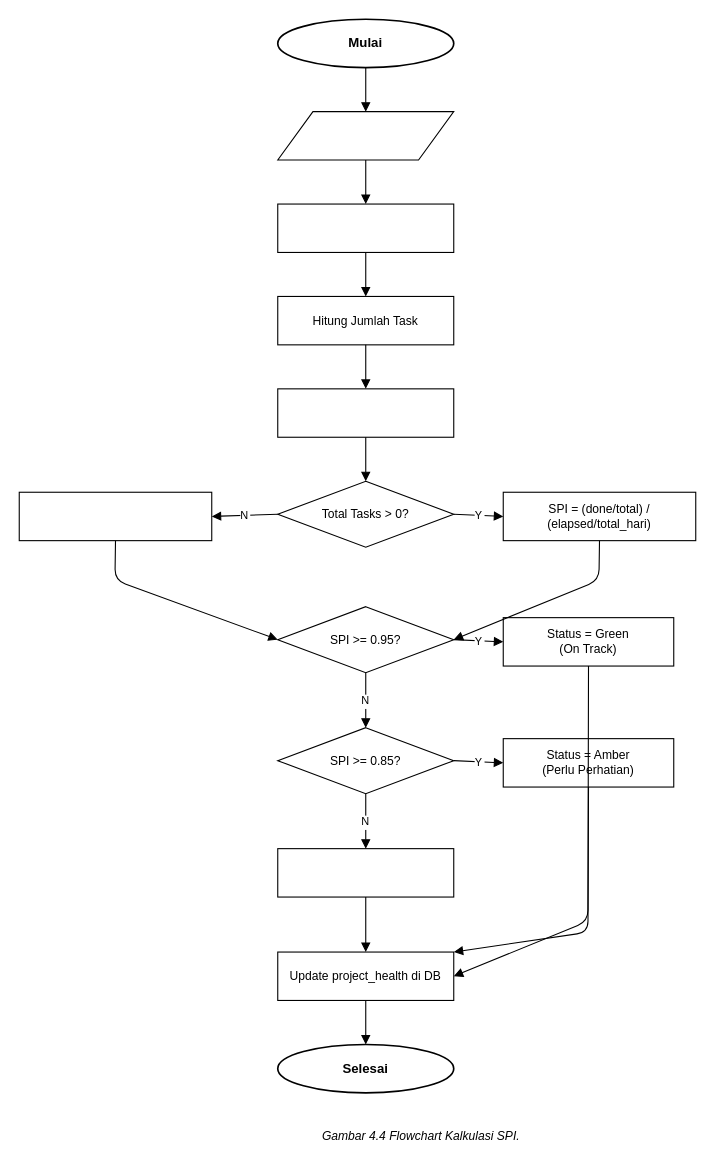
Image size: 715x1172. Some labels were removed from this diagram. Here are the shapes that lost their labels. From the top down, the centre of each, then its label:
pixel 365 135: Status Task Berubah (event trigger)
pixel 365 227: Ambil Data Proyek dari DB
pixel 365 412: Hitung Elapsed dan Total Hari
pixel 115 516: SPI dari Progress Laporan Harian
pixel 365 872: Status = Red (Kritis)
